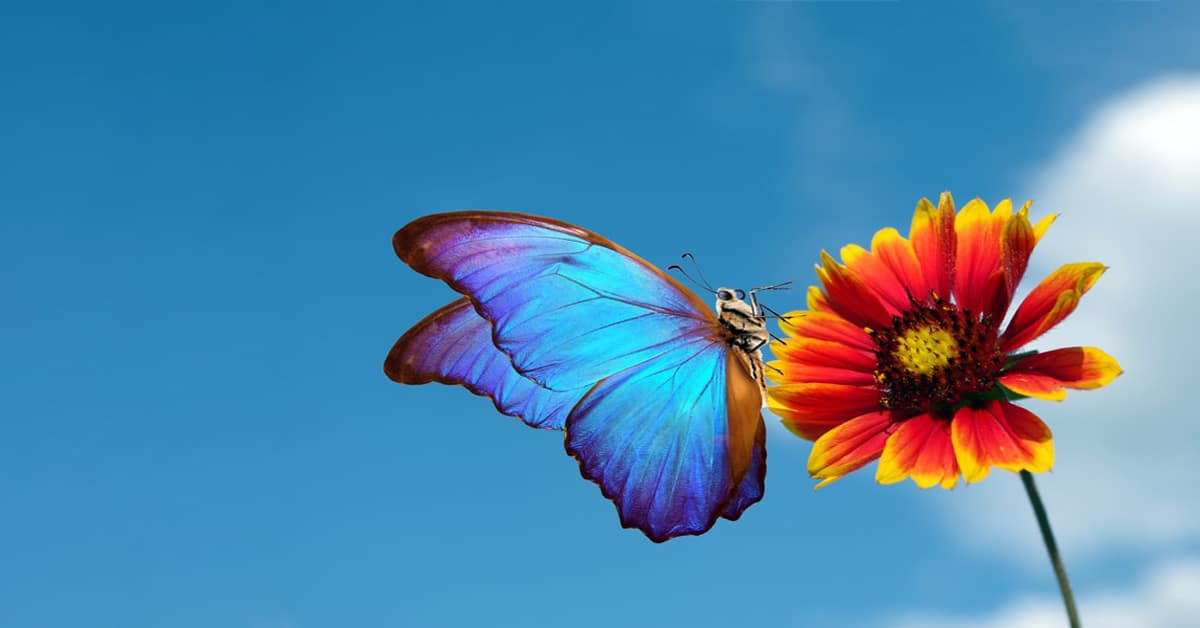Butterfly: (392, 199, 795, 538)
